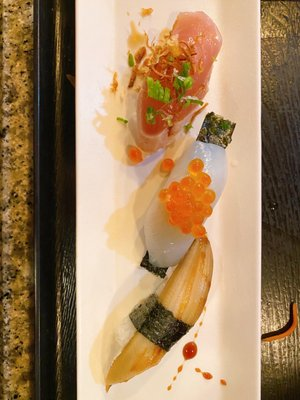curry: (196, 112, 237, 149)
